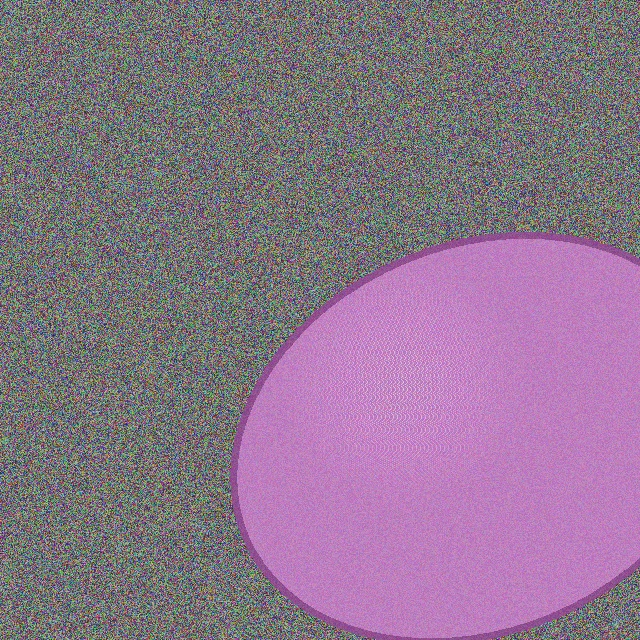lens: (234, 235, 640, 640)
